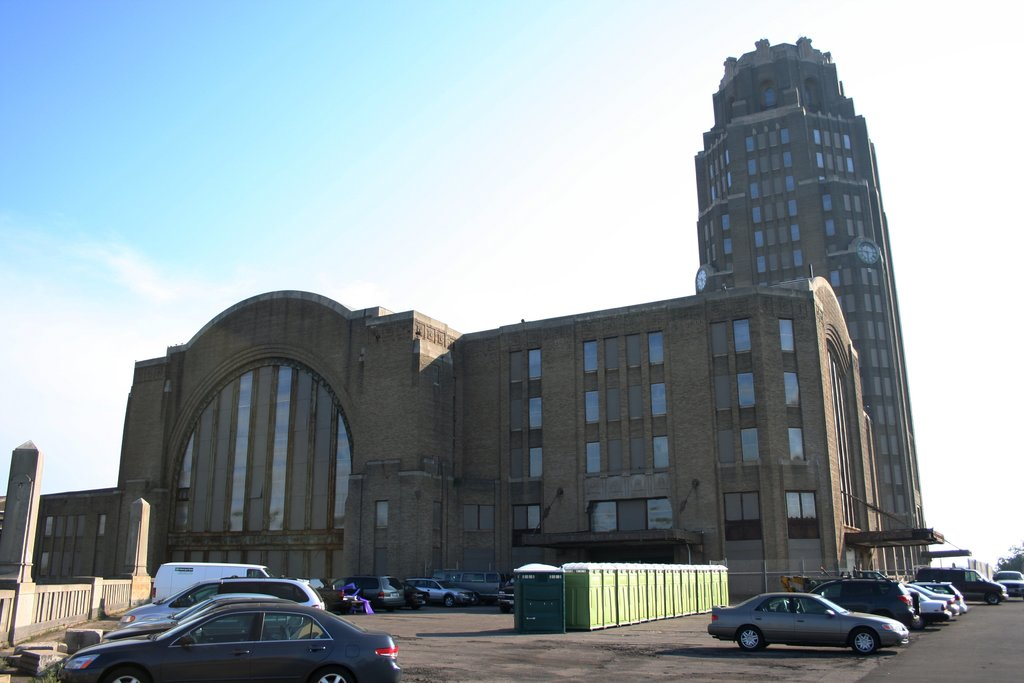Car: (60, 596, 402, 682), (704, 568, 1023, 655), (703, 590, 908, 654), (115, 572, 323, 624), (805, 575, 926, 629), (323, 570, 424, 618), (408, 575, 473, 608)
